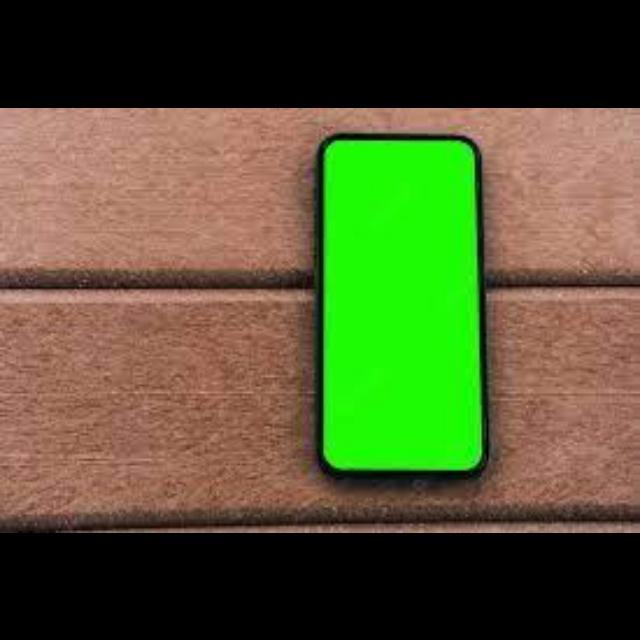phone: (315, 133, 481, 485)
